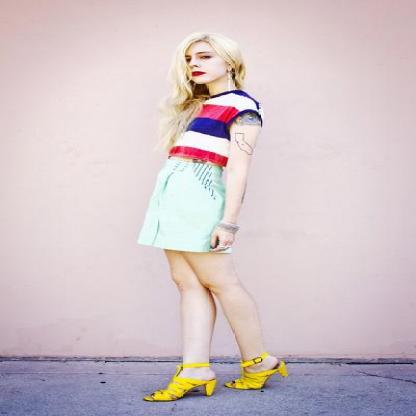shirt: (176, 89, 261, 154)
shoe: (154, 353, 287, 399)
skirt: (133, 146, 225, 252)
